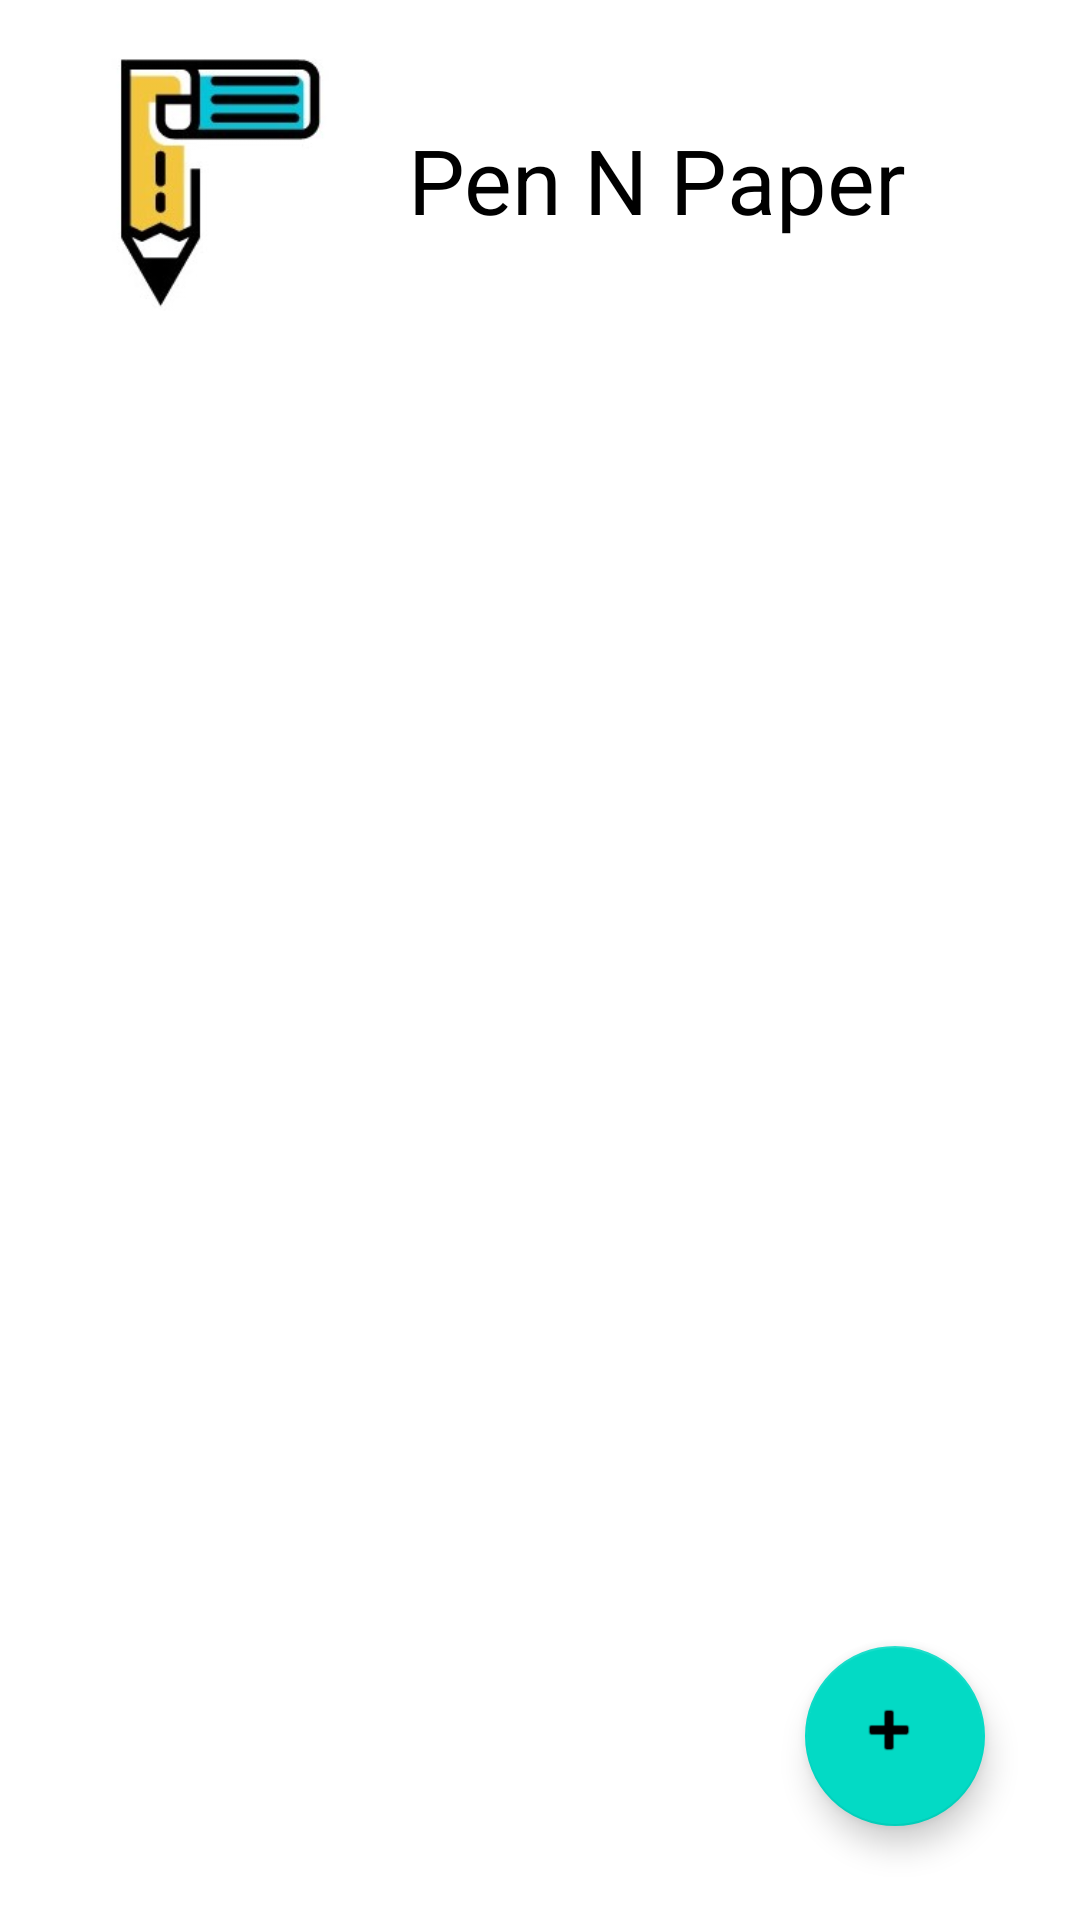

Screen size 1080px×1920px. Icon name, then its center in pixels as [x,y]:
add: [895,1736]
